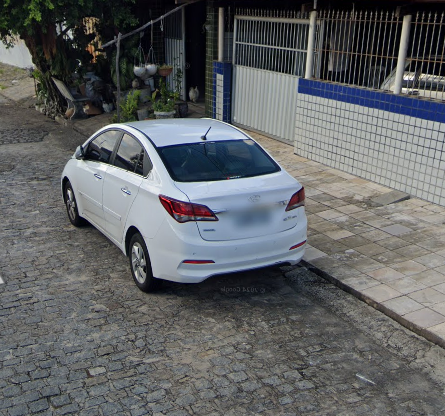car: (60, 114, 310, 293)
